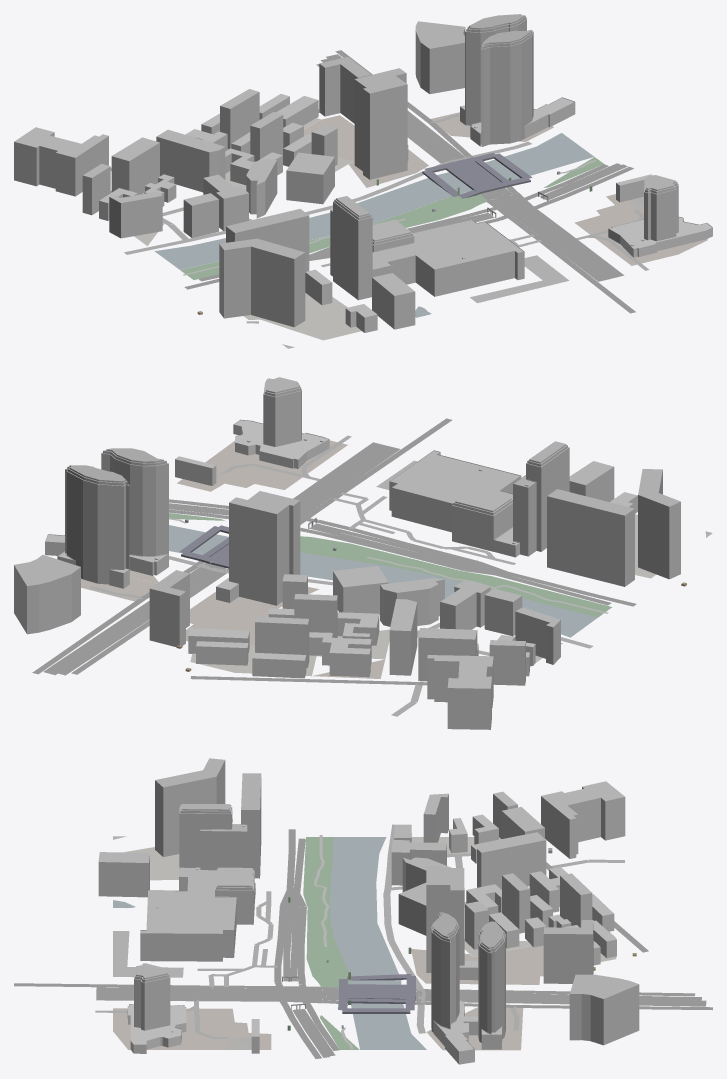
3 views of the same model, one above another, from view 1: azimuth 30°, elevation 25°; view 2: azimuth 150°, elevation 25°; view 3: azimuth 270°, elevation 25° (orthographic). The views are drawn at different scales.
Bounding box in the file's own units: 572 × 114 × 694.
